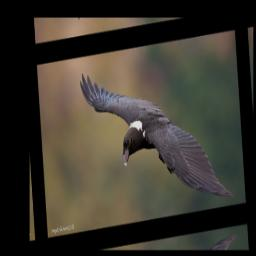Crow: (79, 47, 235, 225)
